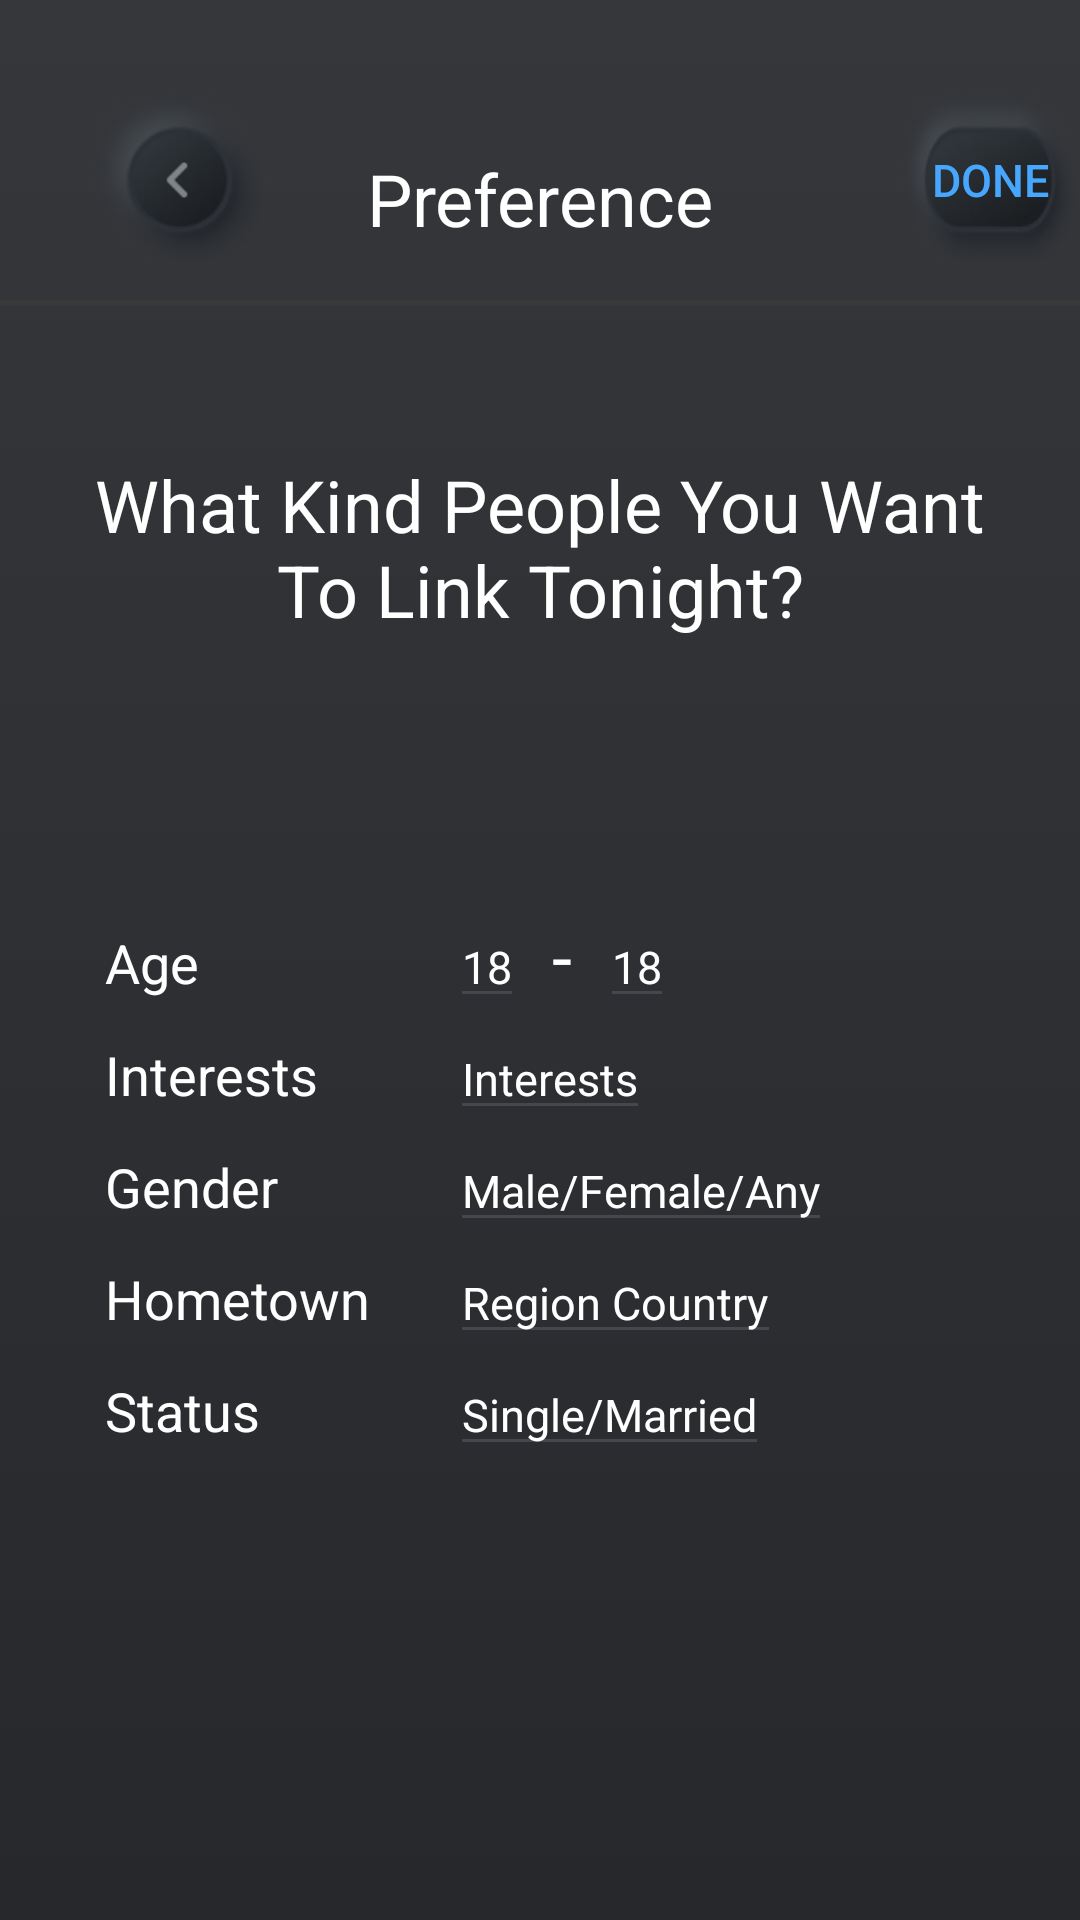

Screen size 1080*1920. Icon name, then its box in pixels as box(x1, y1, x2, y2):
Back Button: box(167, 162, 214, 217)
